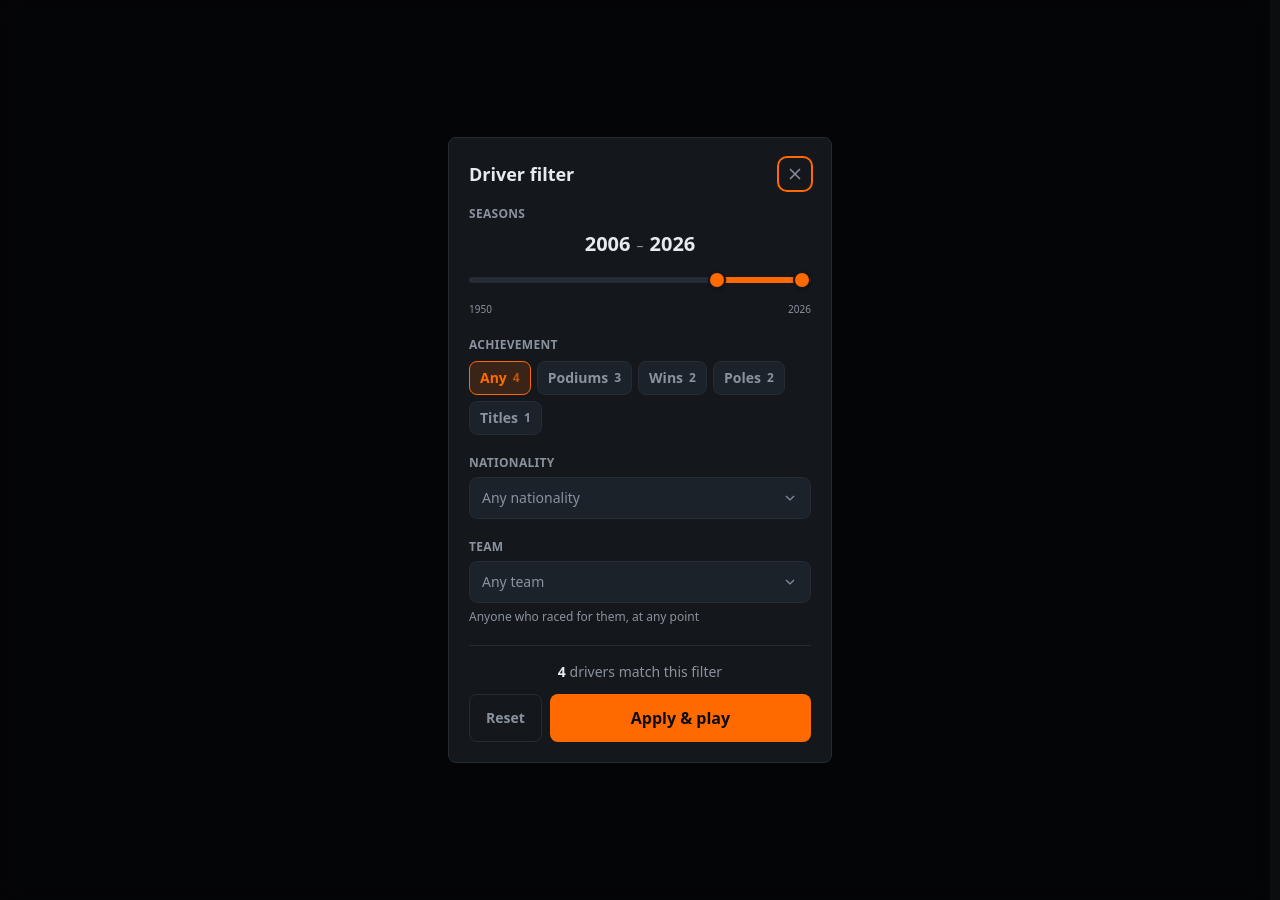
DriverFilterModal › disables a tier that nobody in the current selection reached
The image size is (1280, 900).
Click the button "Any nationality" at (531, 498), box [469, 477, 811, 519]
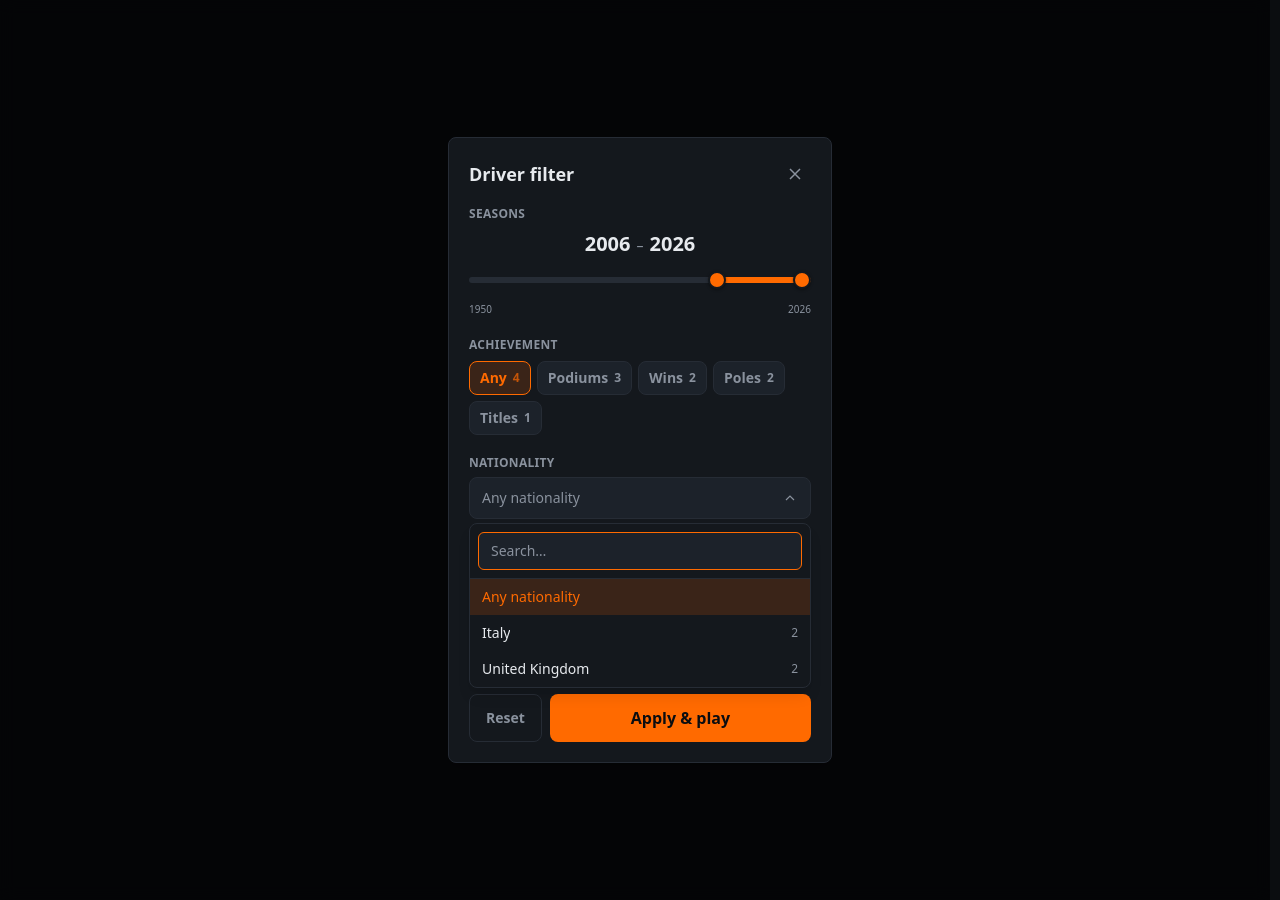
Click the option "Italy 2" at (496, 632), box [482, 623, 798, 642]
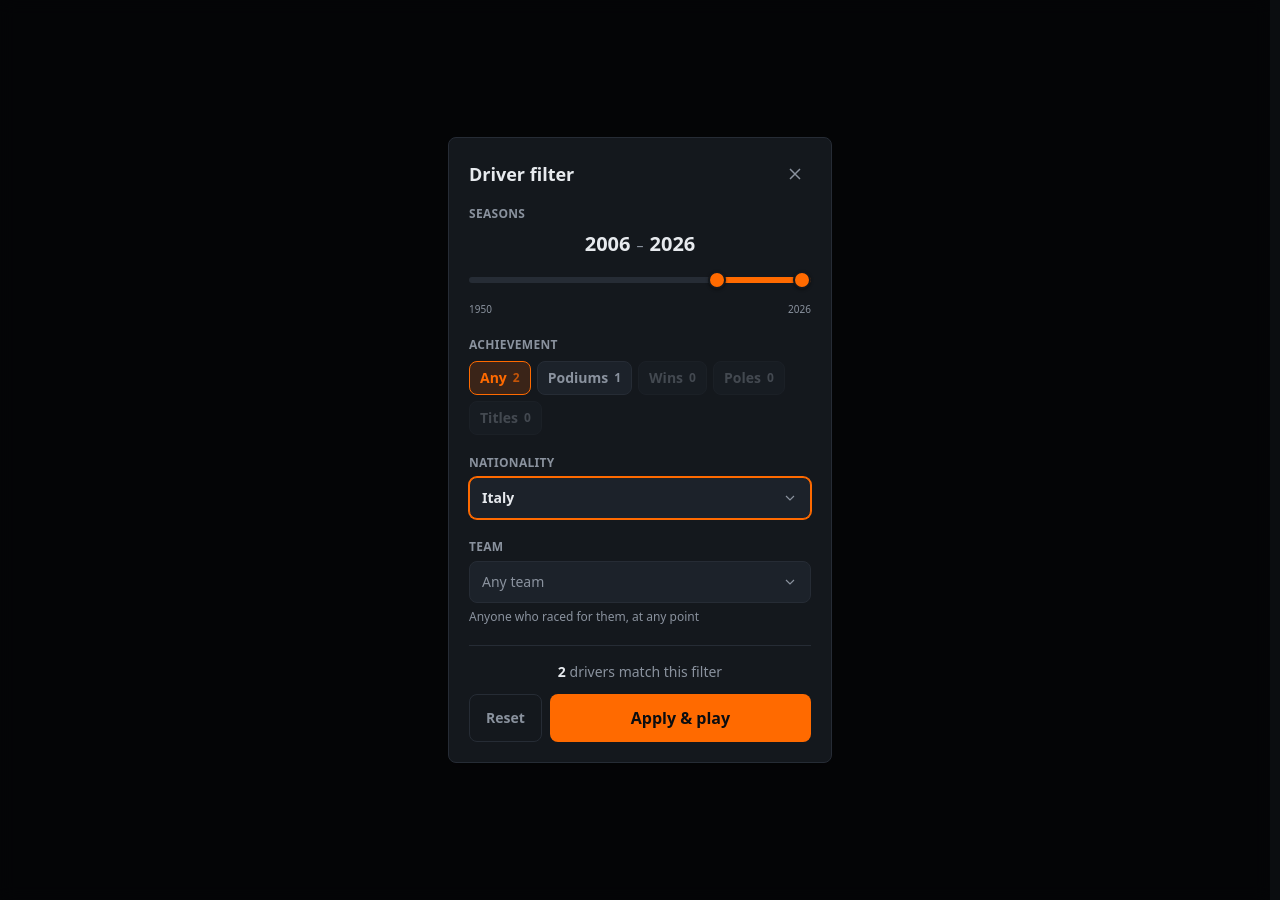
Expected: the radio button with aria-label "Podium finishers" is enabled, [537, 361, 632, 395]
Expected: the radio button with aria-label "World champions" is disabled, [469, 401, 542, 435]
